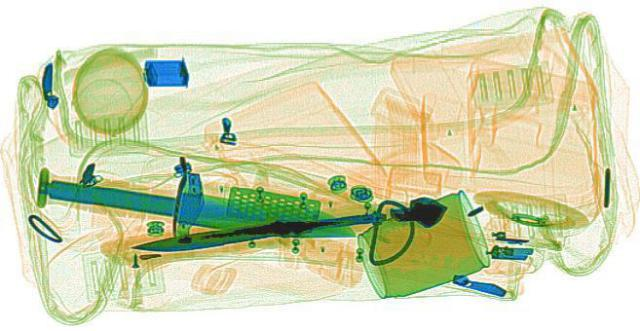Knife: (33, 171, 364, 245), (127, 205, 389, 253)
